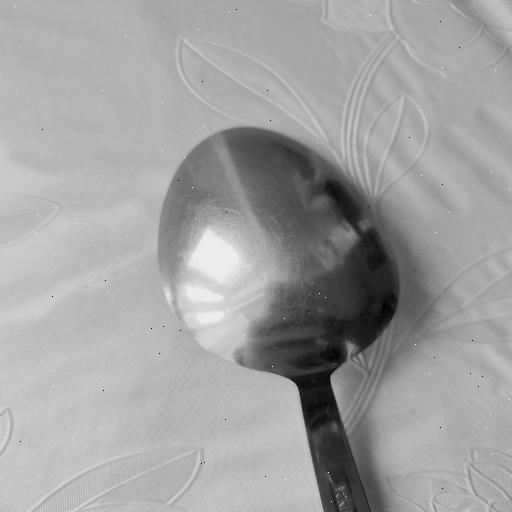spoon: (161, 129, 388, 512)
